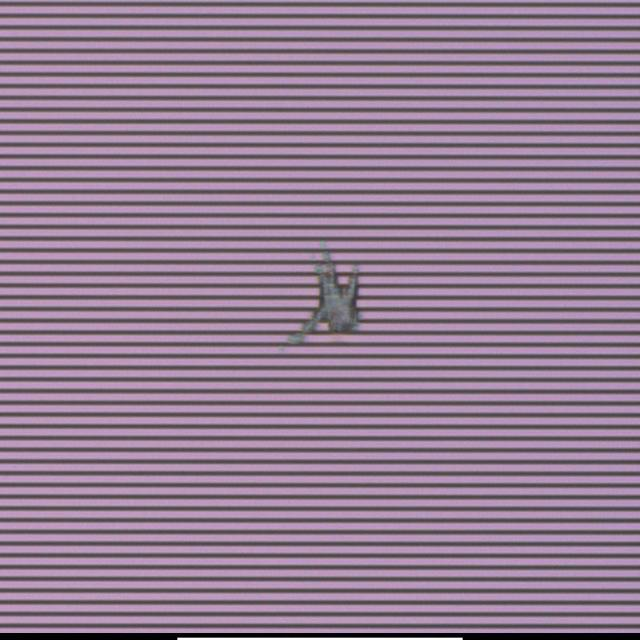03_intrusion: (282, 242, 368, 350)
